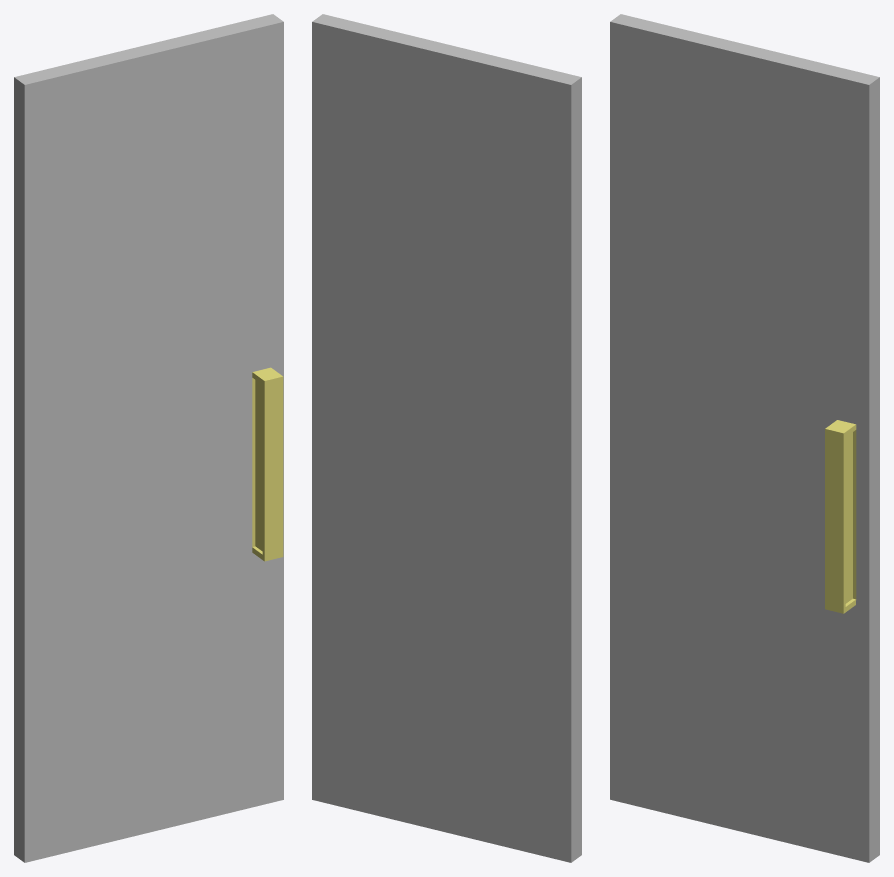
Rendered from Itr_Wardrobe3_Door_Left_06.FBX.
3 views of the same model, side by side, from view 1: azimuth 30°, elevation 25°; view 2: azimuth 150°, elevation 25°; view 3: azimuth 330°, elevation 25° (orthographic).
Parts seen in each view (by area): view 1: Itr_Wardrobe3_Door_Left_06; view 2: Itr_Wardrobe3_Door_Left_06; view 3: Itr_Wardrobe3_Door_Left_06.
Part boxes in pixels (x1=…): Itr_Wardrobe3_Door_Left_06: x1=14, y1=14, x2=283, y2=862; Itr_Wardrobe3_Door_Left_06: x1=312, y1=14, x2=581, y2=862; Itr_Wardrobe3_Door_Left_06: x1=610, y1=14, x2=879, y2=862.
Bounding box in the file's own units: 20.07 × 57.59 × 3.1.
